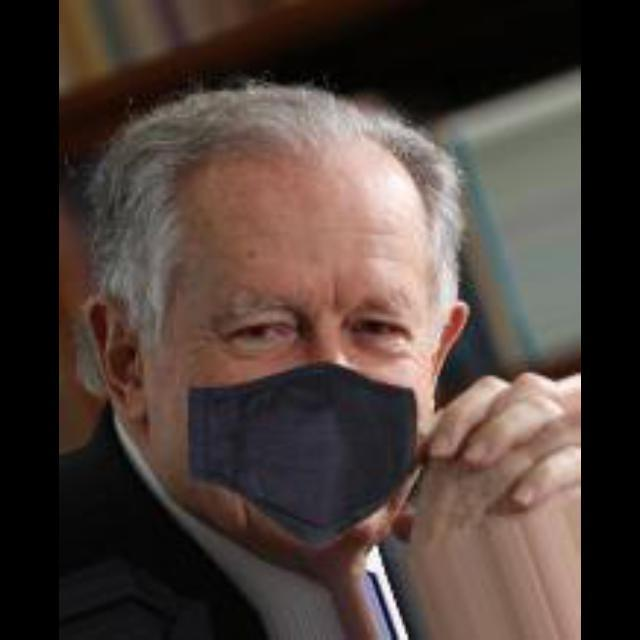suspicion: (99, 81, 454, 518)
